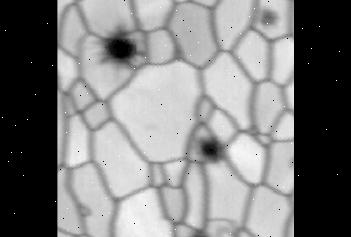good_void: (95, 18, 142, 71), (194, 134, 224, 164), (259, 7, 278, 28), (188, 224, 217, 237)
